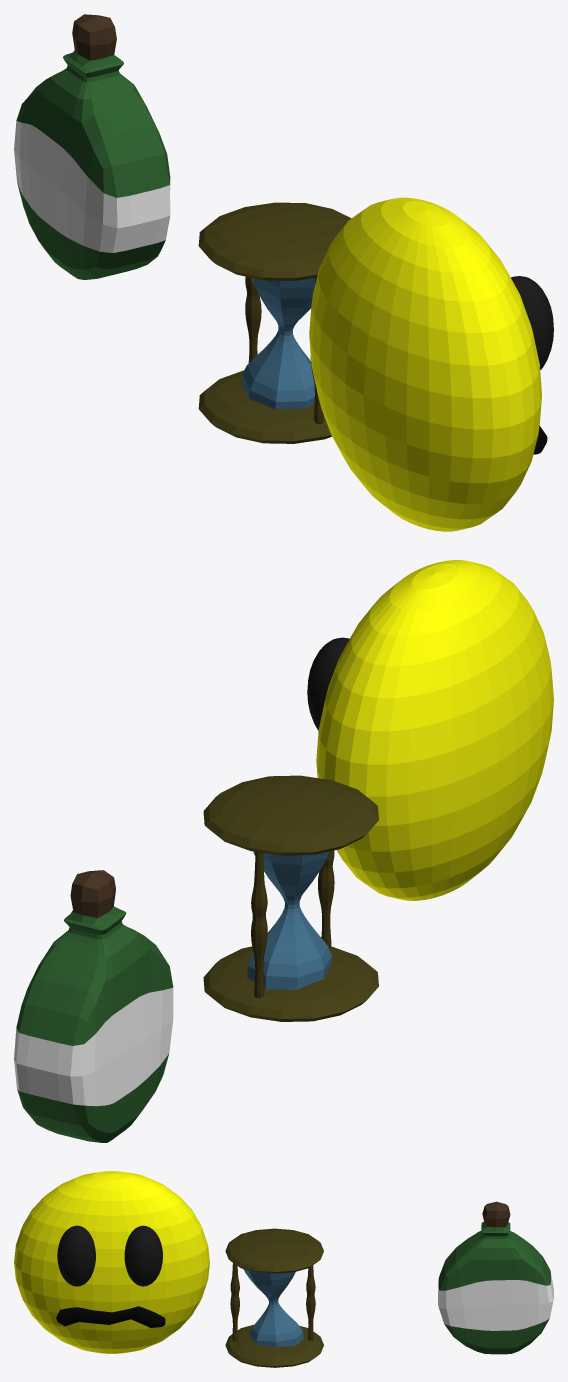
The model's file is ItemsPack1.fbx.
3 views of the same model, one above another, from view 1: azimuth 30°, elevation 25°; view 2: azimuth 150°, elevation 25°; view 3: azimuth 270°, elevation 25° (orthographic). The views are drawn at different scales.
Parts seen in each view (by area): view 1: Sadface, Potion, Hourglass; view 2: Sadface, Potion, Hourglass; view 3: Sadface, Potion, Hourglass.
Boxes of the visible parts, bbox=[...] form: Sadface: bbox=[309, 197, 553, 531]; Potion: bbox=[14, 14, 170, 279]; Hourglass: bbox=[198, 202, 351, 443]; Sadface: bbox=[307, 560, 553, 900]; Potion: bbox=[14, 870, 173, 1142]; Hourglass: bbox=[203, 775, 378, 1021]; Sadface: bbox=[14, 1171, 209, 1353]; Potion: bbox=[438, 1201, 553, 1354]; Hourglass: bbox=[225, 1228, 323, 1367].
Bounding box in the file's own units: 232 × 397 × 1083.
